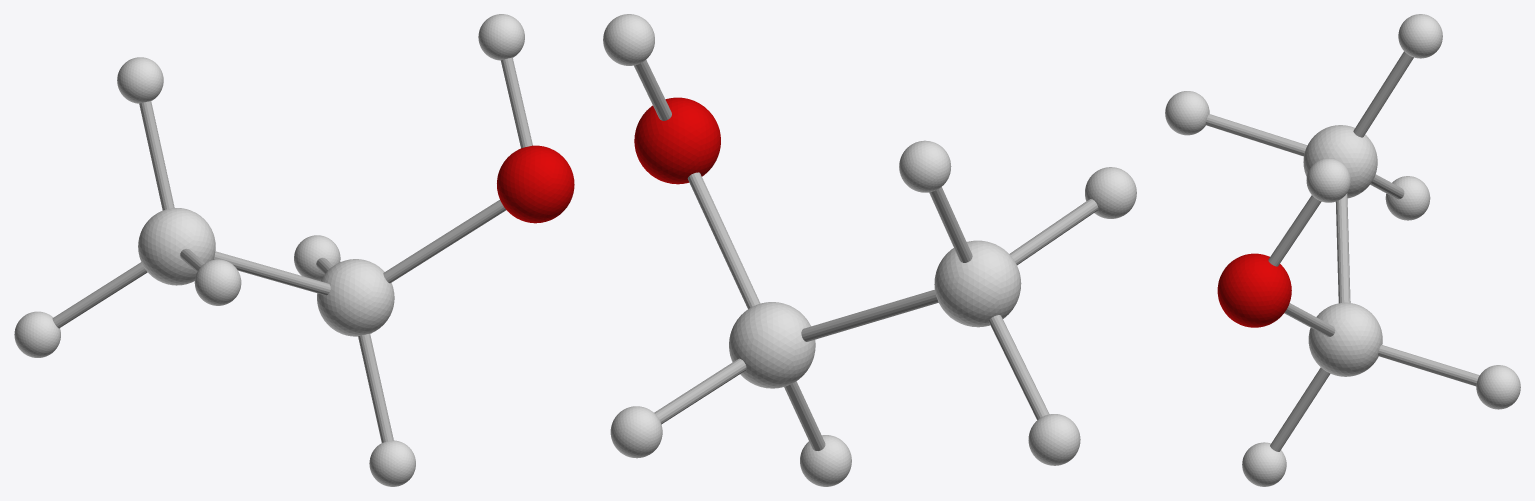
Rendered from CCO.glb.
The picture shows the model from 3 angles, left to right: view 1: azimuth 30°, elevation 25°; view 2: azimuth 150°, elevation 25°; view 3: azimuth 270°, elevation 25°; orthographic projection. The views are drawn at different scales.
Parts seen in each view (by area): view 1: world; view 2: world; view 3: world.
Boxes of the visible parts, bbox=[...] form: world: bbox=[14, 14, 574, 486]; world: bbox=[603, 14, 1136, 486]; world: bbox=[1165, 14, 1520, 486].
Size of the model in its own units: 3.5 by 2.9 by 2.39.
